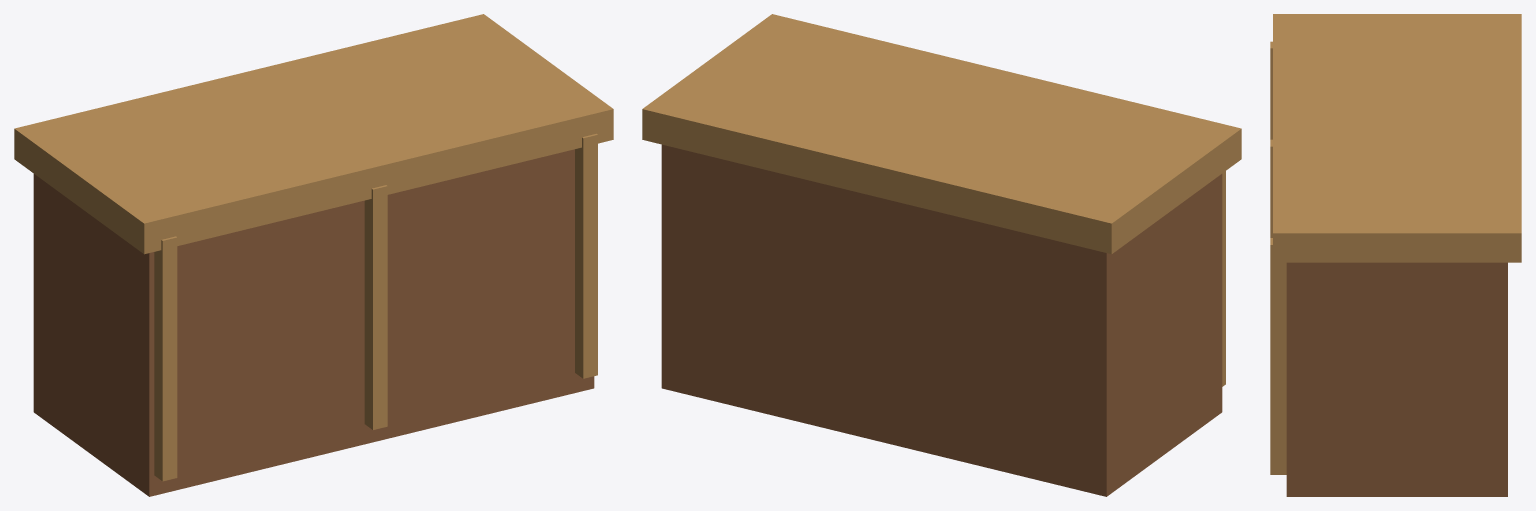
File: counter.glb
3 views of the same model, side by side, from view 1: azimuth 30°, elevation 25°; view 2: azimuth 150°, elevation 25°; view 3: azimuth 270°, elevation 25° (orthographic). The views are drawn at different scales.
Parts seen in each view (by area): view 1: cabinet, top, trim, trim.001, trim.002; view 2: cabinet, top, trim; view 3: top, cabinet, trim.002, trim, trim.001.
Boxes of the visible parts, x1=… form: cabinet: x1=33, y1=149, x2=594, y2=496; top: x1=14, y1=14, x2=613, y2=254; trim: x1=154, y1=236, x2=177, y2=481; trim.001: x1=364, y1=185, x2=387, y2=429; trim.002: x1=575, y1=133, x2=597, y2=378; cabinet: x1=661, y1=144, x2=1222, y2=496; top: x1=642, y1=14, x2=1241, y2=254; trim: x1=1222, y1=171, x2=1225, y2=386; top: x1=1273, y1=14, x2=1521, y2=262; cabinet: x1=1286, y1=262, x2=1507, y2=496; trim.002: x1=1270, y1=238, x2=1286, y2=474; trim: x1=1270, y1=41, x2=1272, y2=139; trim.001: x1=1270, y1=139, x2=1272, y2=237.
Bounding box in the file's own units: 1.92 × 1.1 × 0.93.
